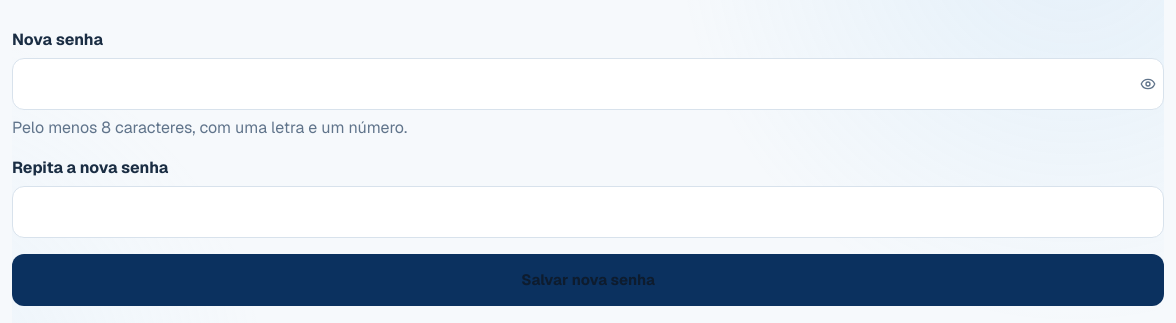
Test: o que a tela barra antes de chamar o servidor › recusa senha sem número
Type "clinicasegura" into the password field labelled "Nova senha" at (588, 84), box [12, 58, 1164, 110]
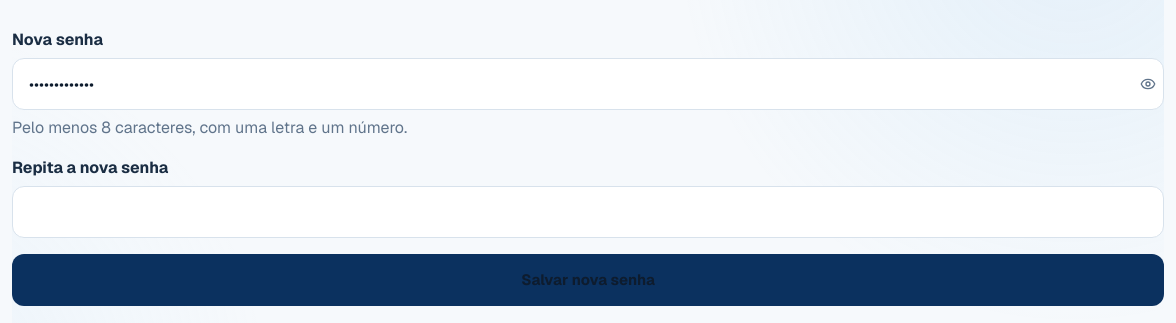
Type "clinicasegura" into the password field labelled "Repita a nova senha" at (588, 212), box [12, 186, 1164, 238]
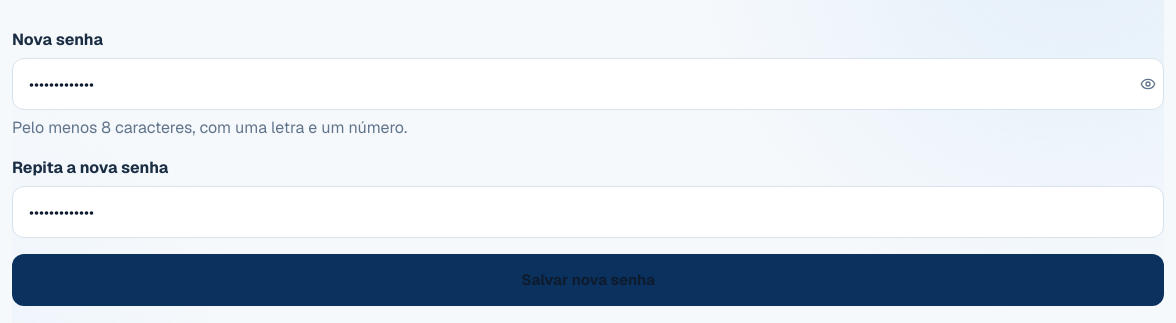
Click the button "Salvar nova senha" at (588, 280), box [12, 254, 1164, 306]
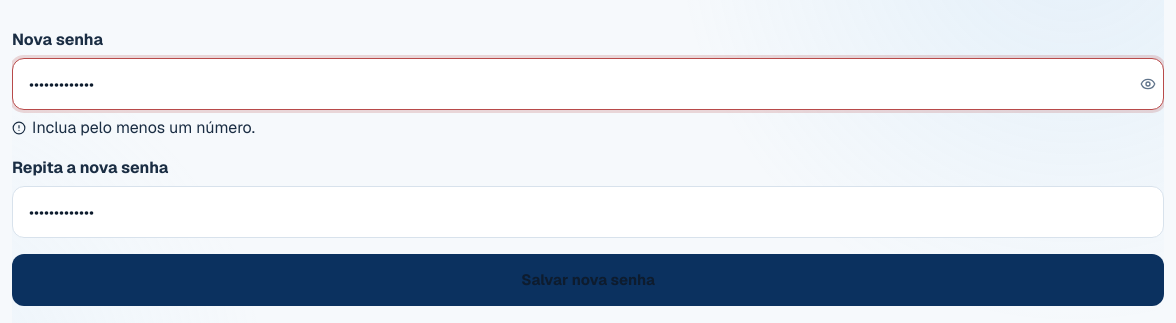
Result: the text "Inclua pelo menos um número." is shown at [12, 117, 255, 138]
